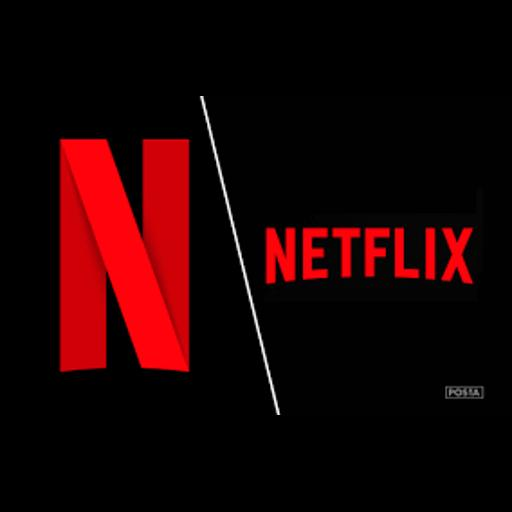Netflix: (0, 96, 512, 415)
